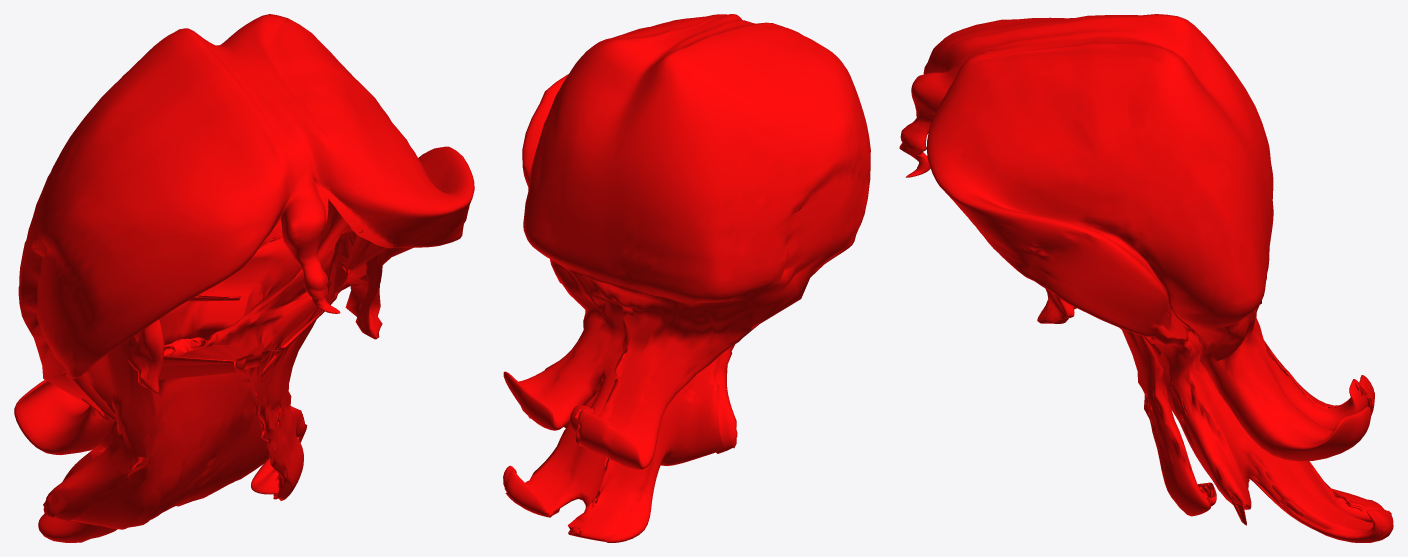
Rendered from culturalibre_hair_12_F.glb.
3 renders of one model, left to right at view 1: azimuth 30°, elevation 25°; view 2: azimuth 150°, elevation 25°; view 3: azimuth 270°, elevation 25°, orthographic. The views are drawn at different scales.
Bounding box in the file's own units: 0.2759 × 0.3713 × 0.3252.
Materials: 1 (1 with a texture image).
